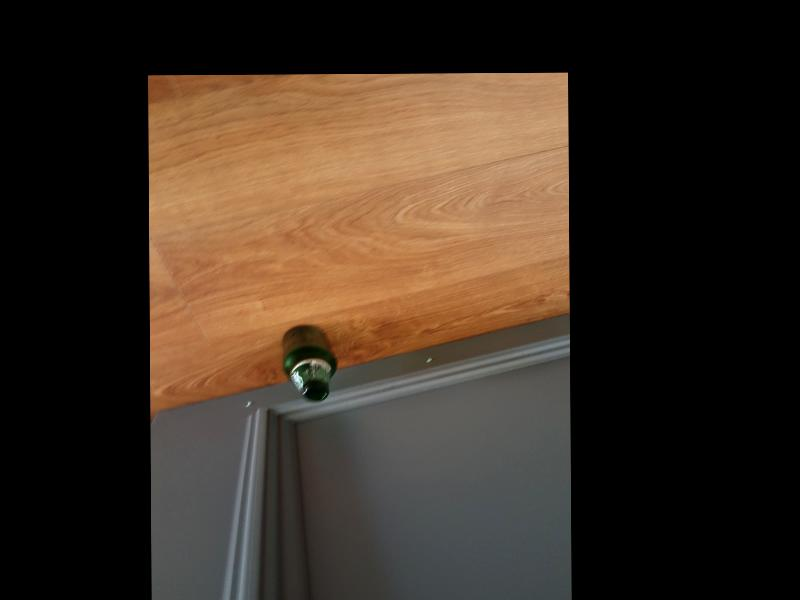Beer: (283, 325, 336, 401)
